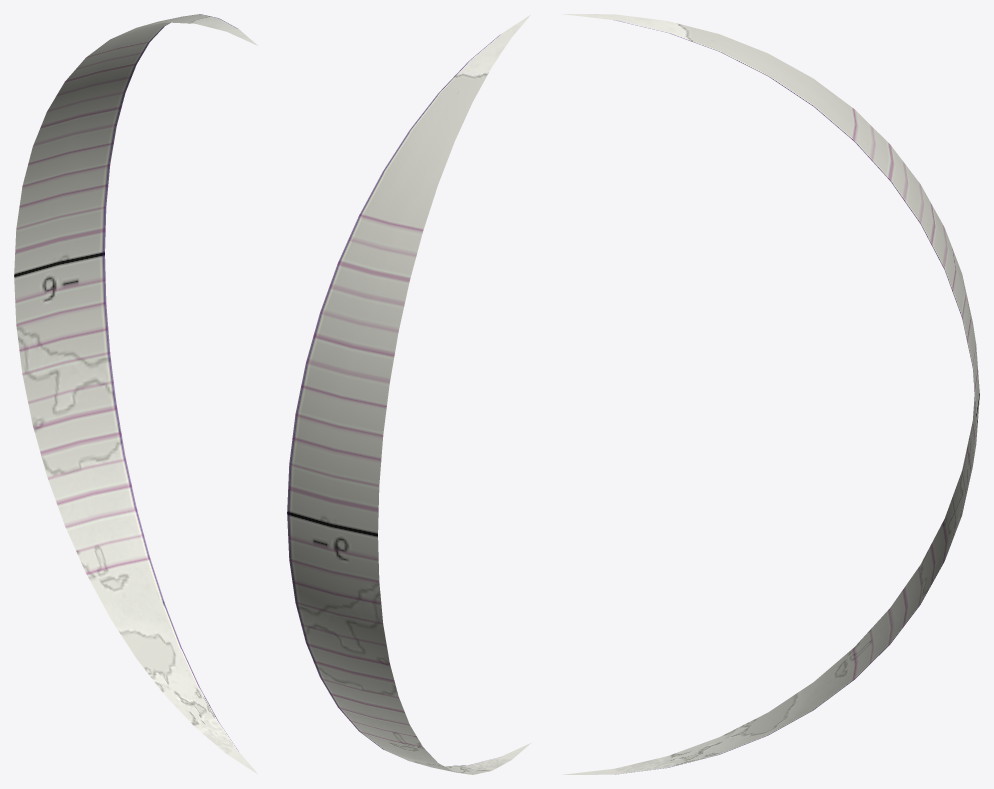
The model's file is GMTM6.obj.
3 renders of one model, left to right at view 1: azimuth 30°, elevation 25°; view 2: azimuth 150°, elevation 25°; view 3: azimuth 270°, elevation 25°, orthographic. The views are drawn at different scales.
Parts seen in each view (by area): view 1: GMTM06; view 2: GMTM06; view 3: GMTM06.
Boxes of the visible parts, x1,y1,x2,y2 form: GMTM06: (14,14,257,773); GMTM06: (287,15,530,774); GMTM06: (562,14,979,774).
Size of the model in its own units: 66.8 by 512 by 256.
Materials: 1 (1 with a texture image).
